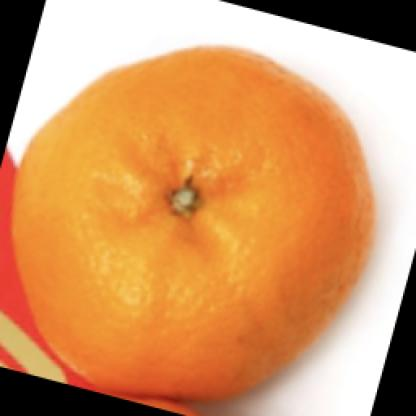fresh: (16, 45, 374, 416)
